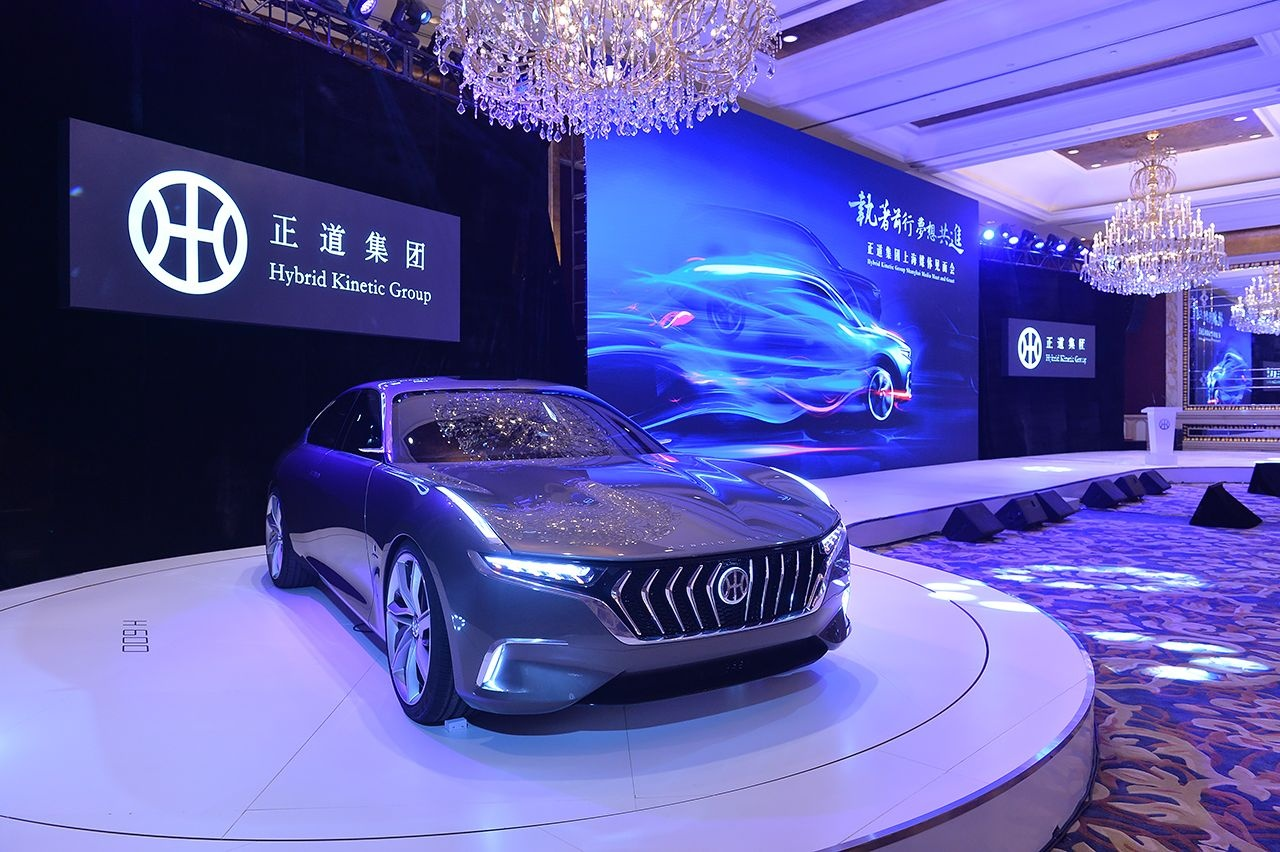family sedan: (229, 336, 866, 742)
